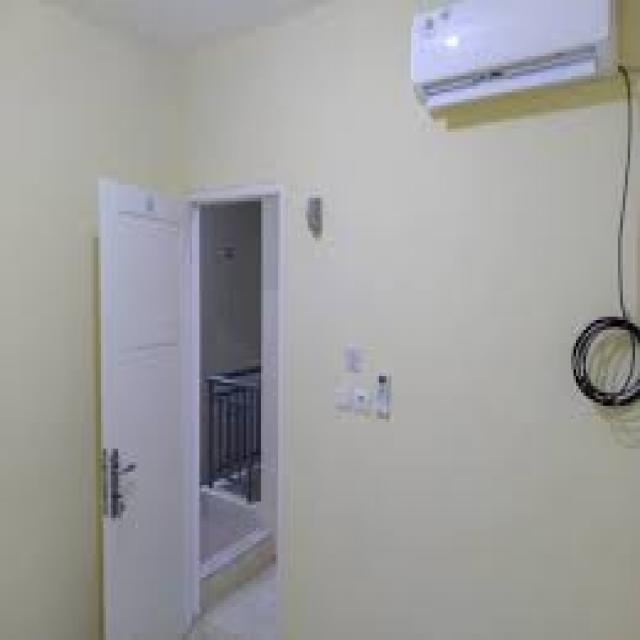AC: (408, 0, 619, 113)
